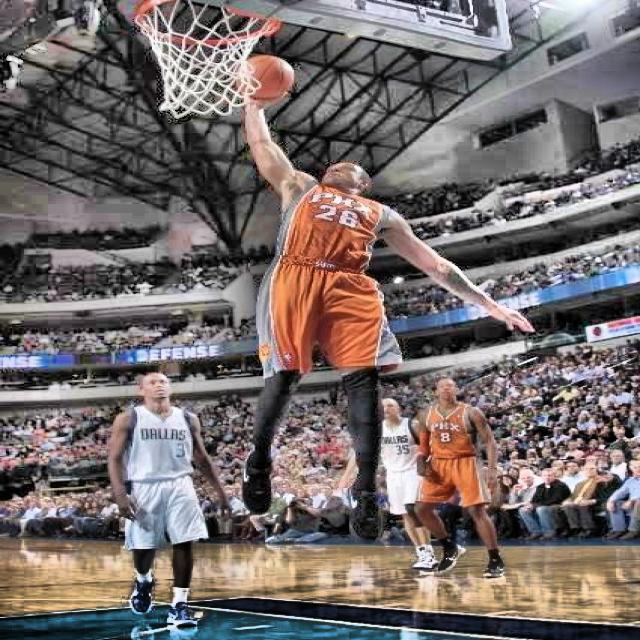board: (242, 57, 294, 102)
rim: (134, 0, 270, 110)
